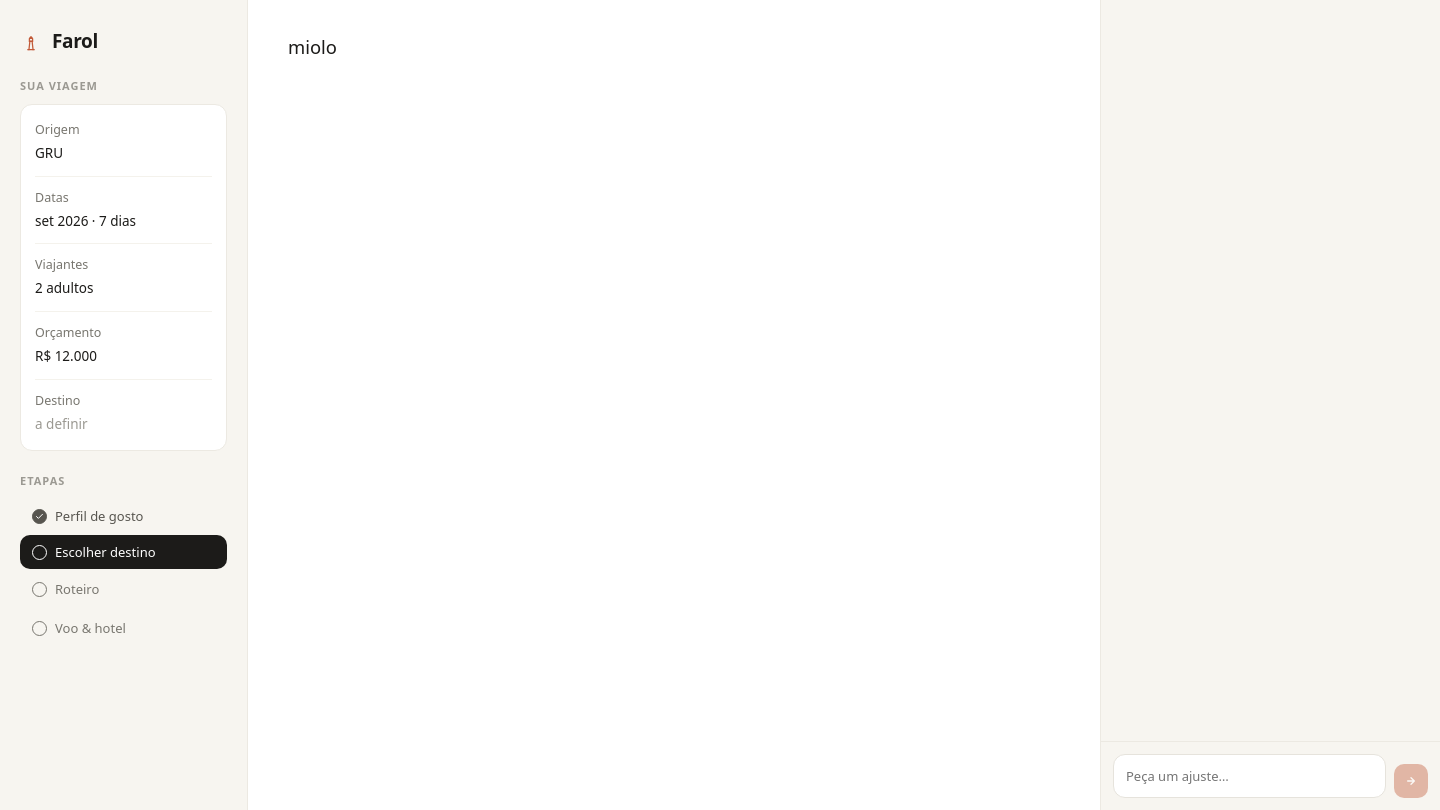
TripShell › o trilho manda a mensagem e mostra a resposta do assessor
expect the text "miolo" is shown: met, box [288,34,337,59]
Type "tira o museu" into the text box. click: (1250,776)
box: [1113,754,1386,798]
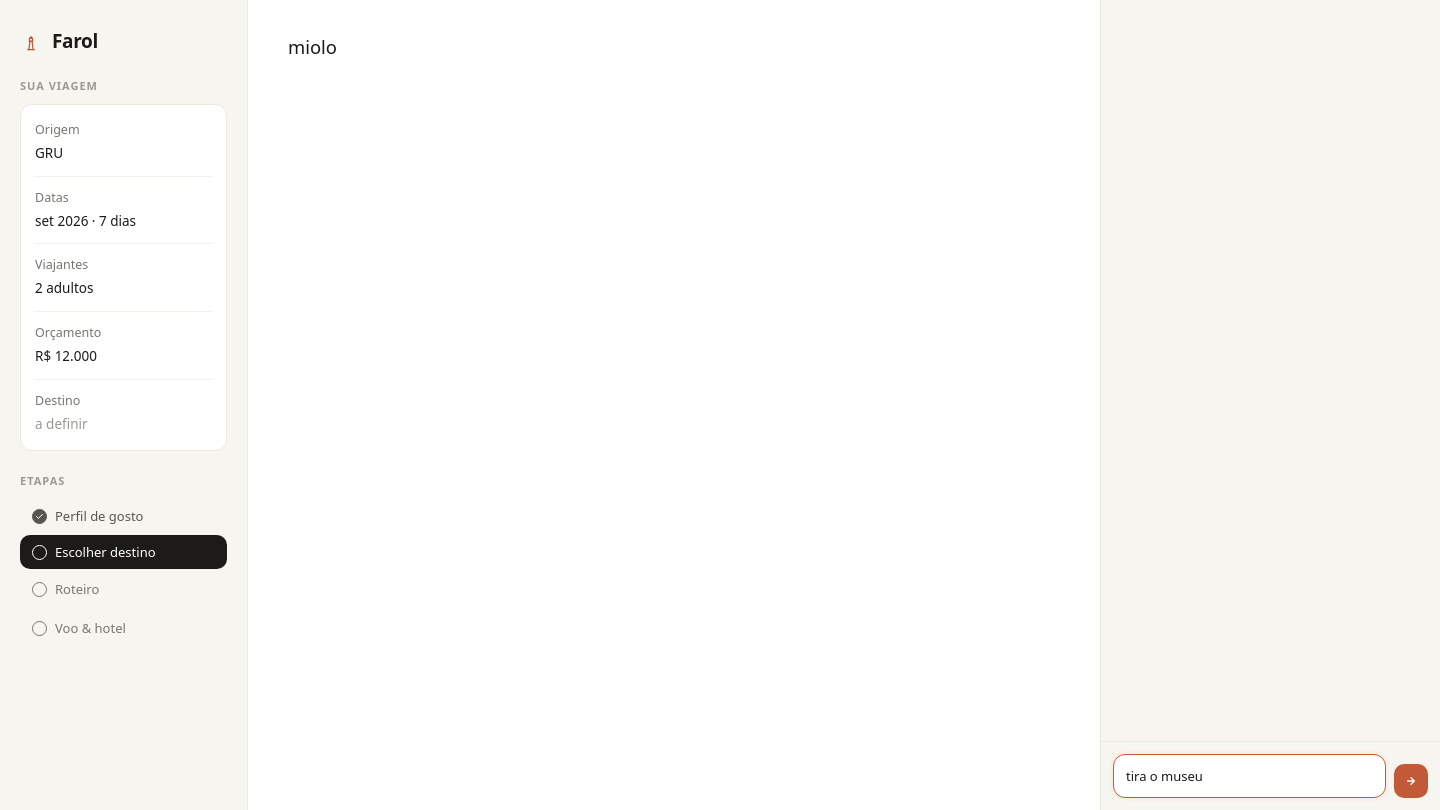
Click the button named "Enviar". click: (1411,781)
box: [1394,764,1428,798]
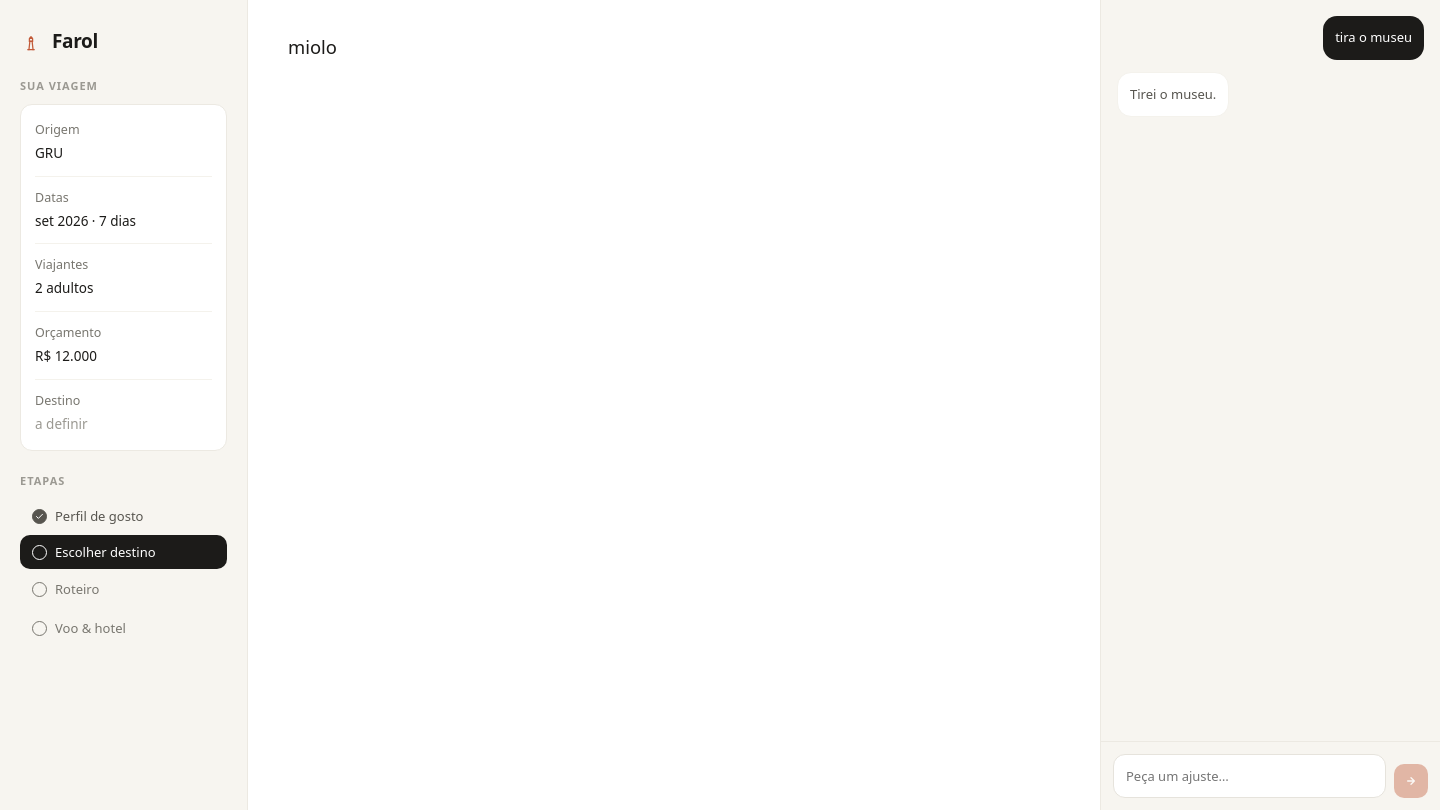
expect the text "Tirei o museu." is shown: met, box [1117,72,1229,117]
